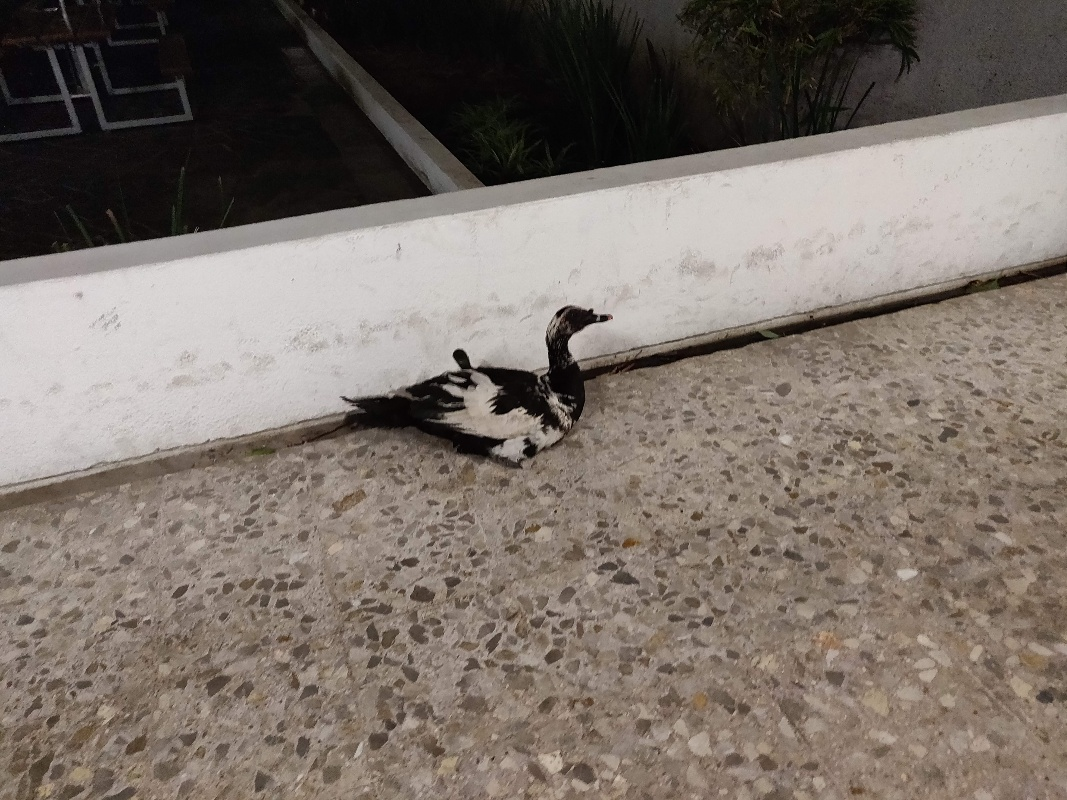pato: (364, 301, 611, 459)
